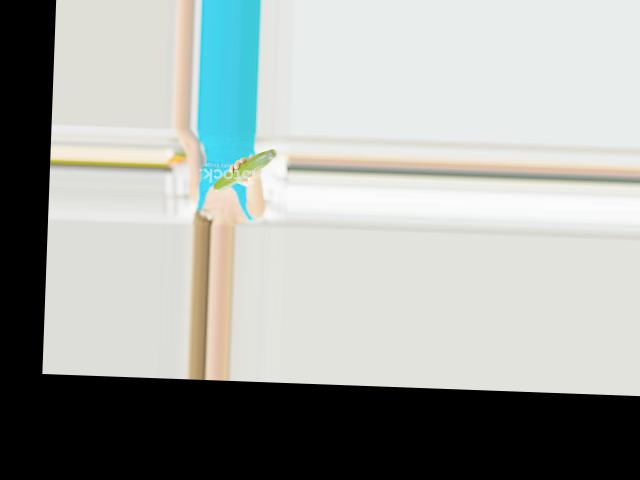cucumber: (212, 146, 276, 192)
